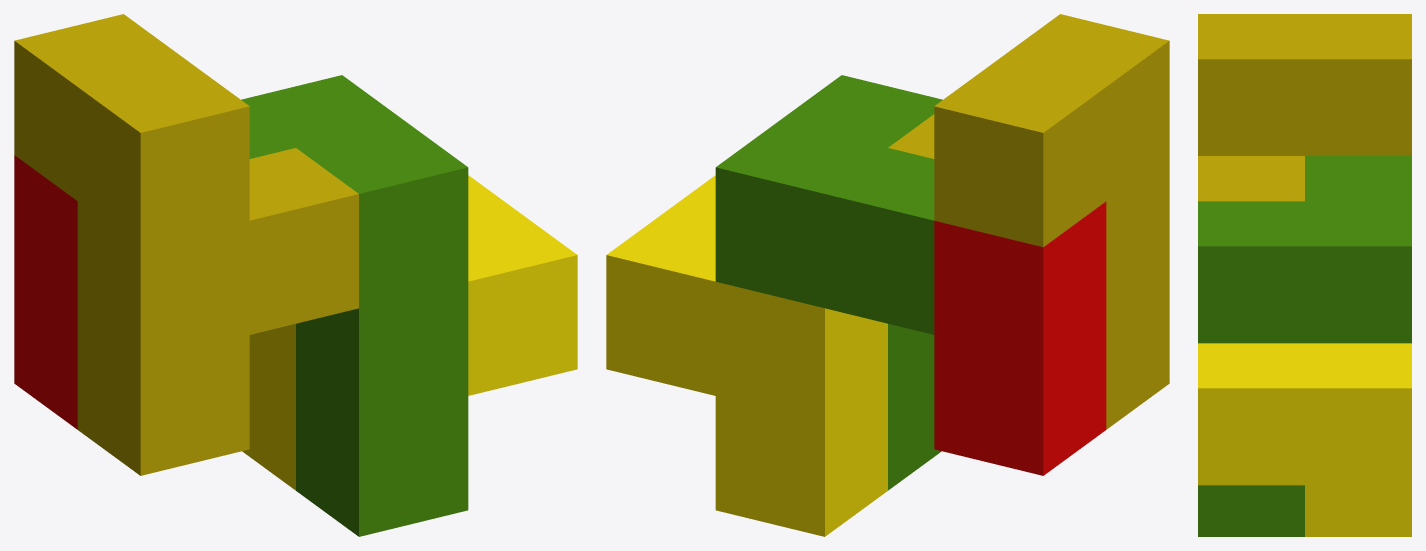
3 renders of one model, left to right at view 1: azimuth 30°, elevation 25°; view 2: azimuth 150°, elevation 25°; view 3: azimuth 270°, elevation 25°, orthographic. The views are drawn at different scales.
Visible parts, largest first — view 1: mergedBlocks(Clone); view 2: mergedBlocks(Clone); view 3: mergedBlocks(Clone).
Boxes of the visible parts, <box> form: mergedBlocks(Clone): <box>14,14,577,536</box>; mergedBlocks(Clone): <box>606,14,1169,536</box>; mergedBlocks(Clone): <box>1198,14,1411,536</box>.
Size of the model in its own units: 4 by 4 by 2.
4 materials, 4 textured.
